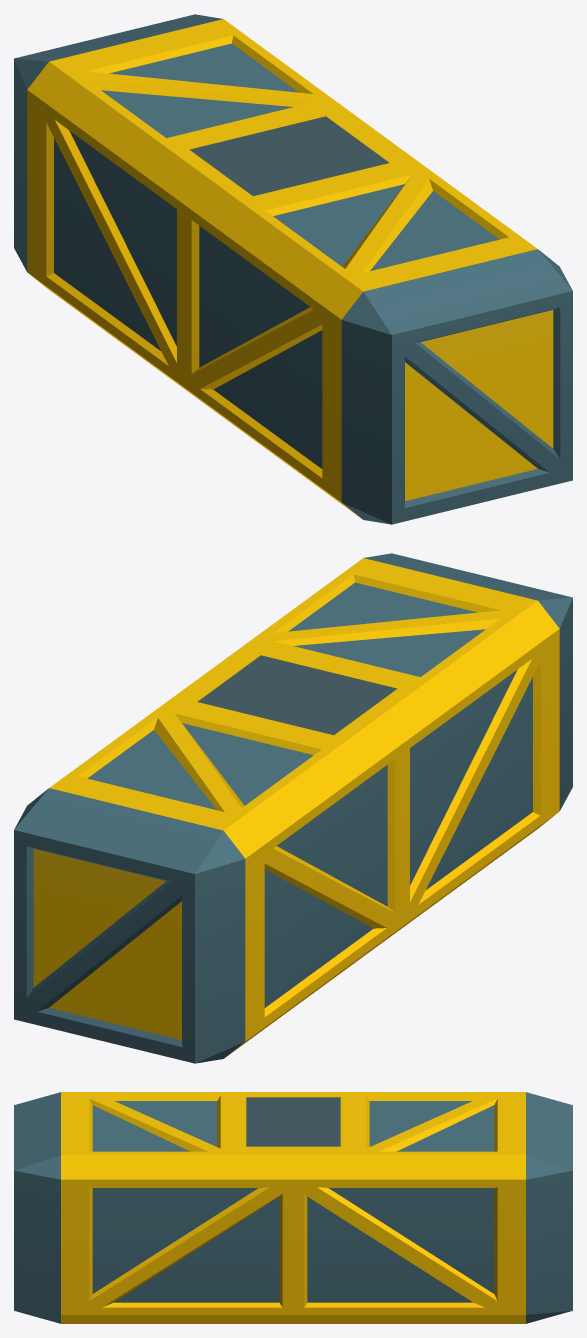
Rendered from Cargo_drone_002_cantainer_001.fbx.
3 views of the same model, one above another, from view 1: azimuth 30°, elevation 25°; view 2: azimuth 150°, elevation 25°; view 3: azimuth 270°, elevation 25° (orthographic). The views are drawn at different scales.
Visible parts, largest first — view 1: Cargo_drone_002_cantainer_001; view 2: Cargo_drone_002_cantainer_001; view 3: Cargo_drone_002_cantainer_001.
Part boxes in pixels (box(x1,y1,x2,y2)): Cargo_drone_002_cantainer_001: box(14, 14, 572, 524); Cargo_drone_002_cantainer_001: box(14, 553, 572, 1063); Cargo_drone_002_cantainer_001: box(14, 1092, 572, 1323).
Size of the model in its own units: 84.96 by 255 by 84.96.
